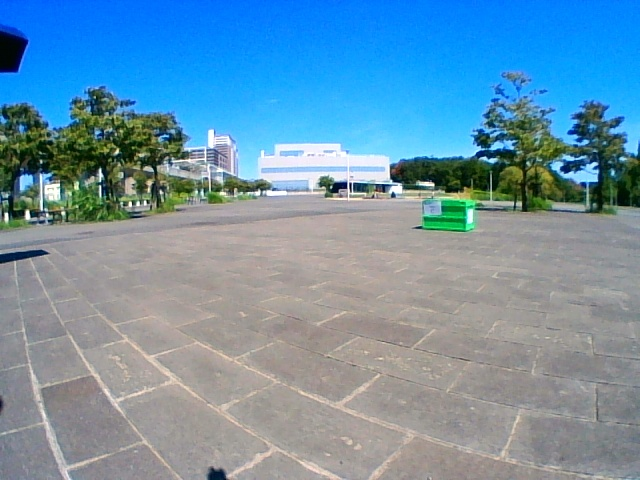green_box: (422, 198, 474, 232)
tag: (424, 202, 439, 216)
